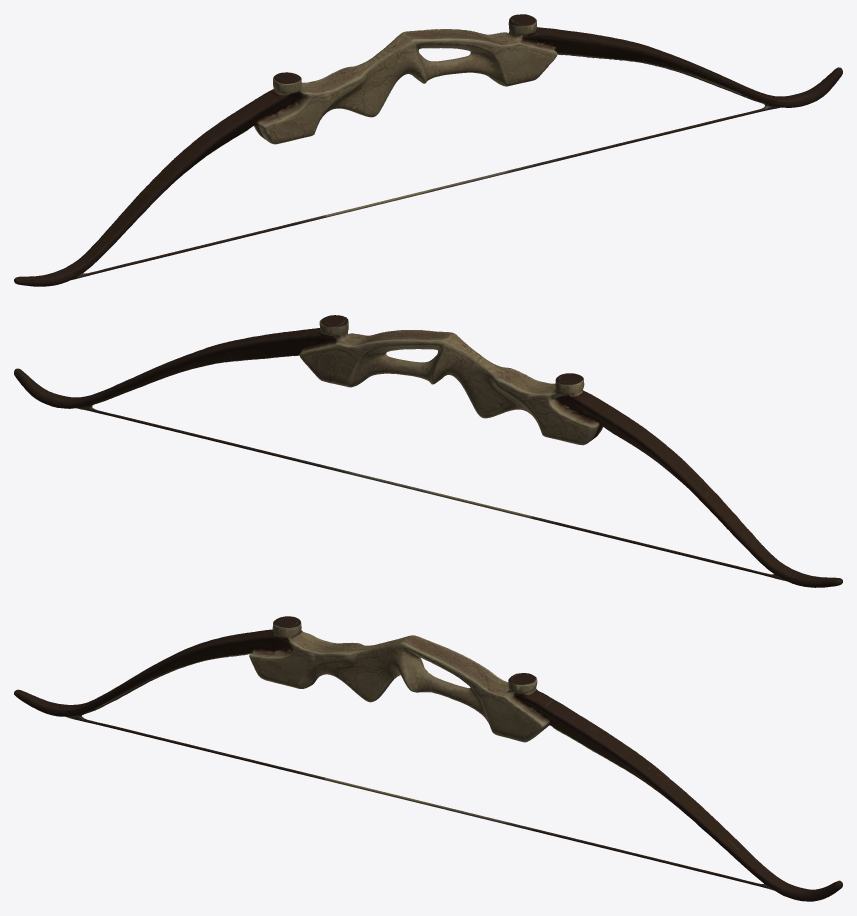
Rendered from Bow.glb.
3 renders of one model, top to bottom at view 1: azimuth 30°, elevation 25°; view 2: azimuth 150°, elevation 25°; view 3: azimuth 330°, elevation 25°, orthographic.
Bounding box in the file's own units: 1.9 × 0.3603 × 0.0723.
1 material, 1 textured.
